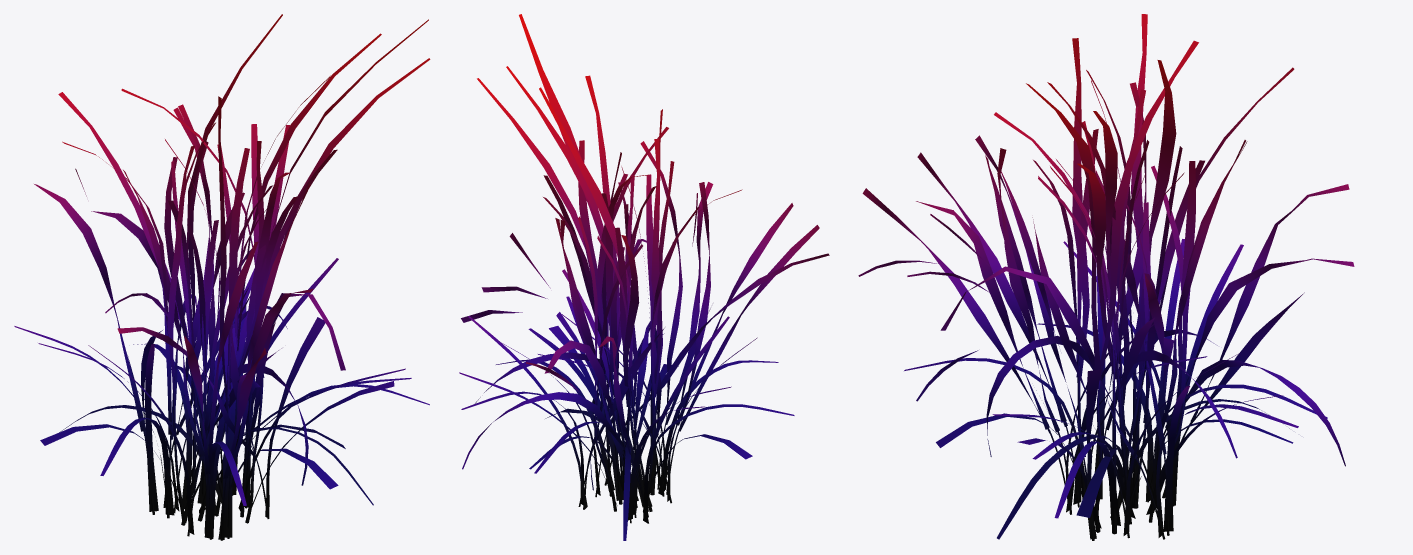
The model's file is Aquatic plantsA.fbx.
The picture shows the model from 3 angles, left to right: view 1: azimuth 30°, elevation 25°; view 2: azimuth 150°, elevation 25°; view 3: azimuth 270°, elevation 25°; orthographic projection. The views are drawn at different scales.
Visible parts, largest first — view 1: Aquatic plants01; view 2: Aquatic plants01; view 3: Aquatic plants01.
Boxes of the visible parts, x1,y1,x2,y2 form: Aquatic plants01: (14,14,430,540); Aquatic plants01: (459,14,829,540); Aquatic plants01: (858,14,1354,540).
Bounding box in the file's own units: 513 × 671 × 624.
